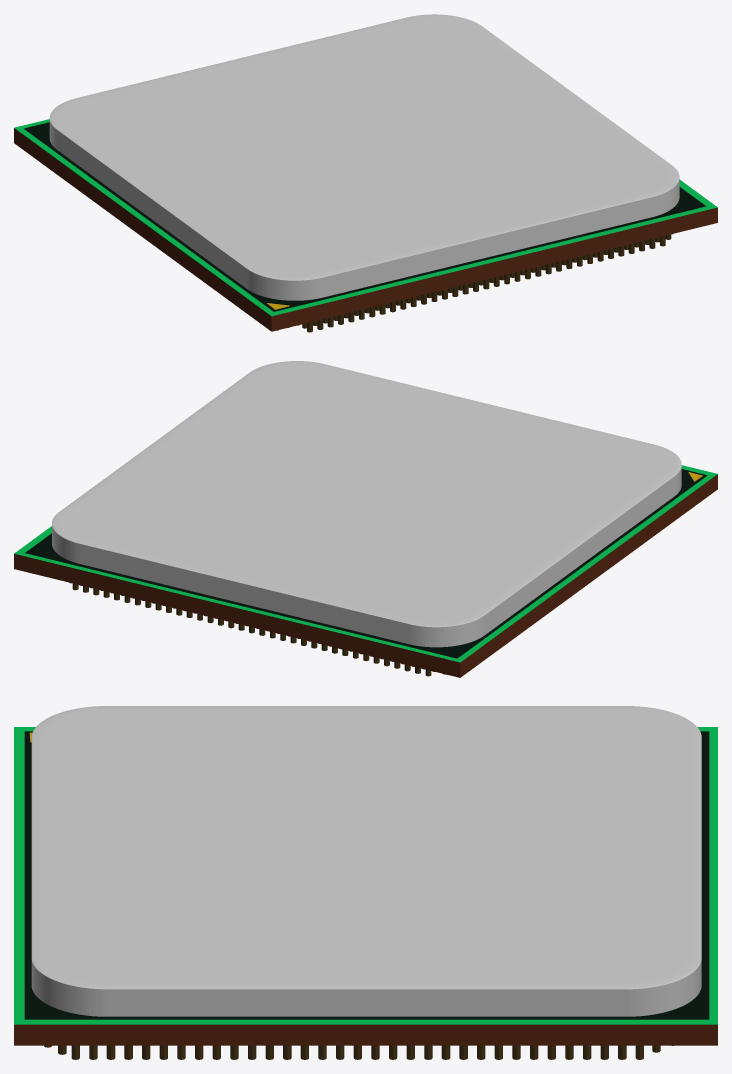
Rendered from apd ruzen 5 3600.obj.
The picture shows the model from 3 angles, top to bottom: view 1: azimuth 30°, elevation 25°; view 2: azimuth 150°, elevation 25°; view 3: azimuth 270°, elevation 25°; orthographic projection. The views are drawn at different scales.
Parts seen in each view (by area): view 1: Cube.001, Cube, Cylinder.004; view 2: Cube.001, Cube, Cylinder.004; view 3: Cube.001, Cube, Cylinder.004.
Part boxes in pixels (x1=…): Cube.001: x1=49, y1=14, x2=679, y2=300; Cube: x1=14, y1=119, x2=717, y2=331; Cylinder.004: x1=277, y1=233, x2=673, y2=332; Cube.001: x1=52, y1=361, x2=681, y2=647; Cube: x1=14, y1=465, x2=717, y2=677; Cylinder.004: x1=69, y1=582, x2=445, y2=676; Cube.001: x1=31, y1=706, x2=701, y2=1016; Cube: x1=14, y1=727, x2=717, y2=1045; Cylinder.004: x1=44, y1=1045, x2=673, y2=1059.
Size of the model in its own units: 2.73 by 0.3336 by 2.73.
